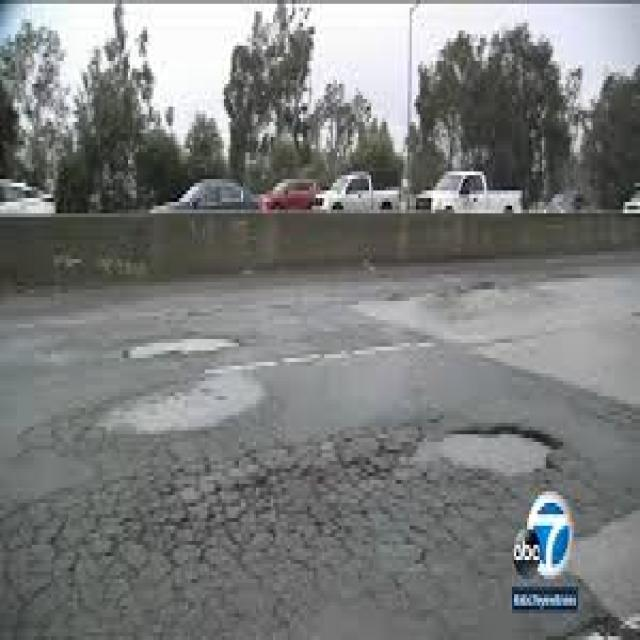Pothole: (467, 434, 542, 472), (431, 408, 495, 446), (393, 419, 418, 434)
